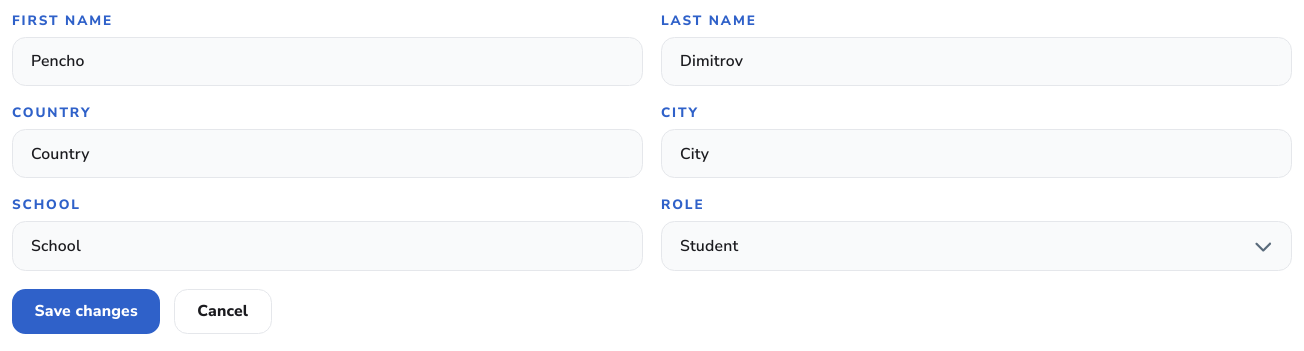
UserEditForm › shows saving state while submitting
The width and height of the screenshot is (1304, 351).
Click the button "Save changes": click(86, 311) [12,289,160,334]
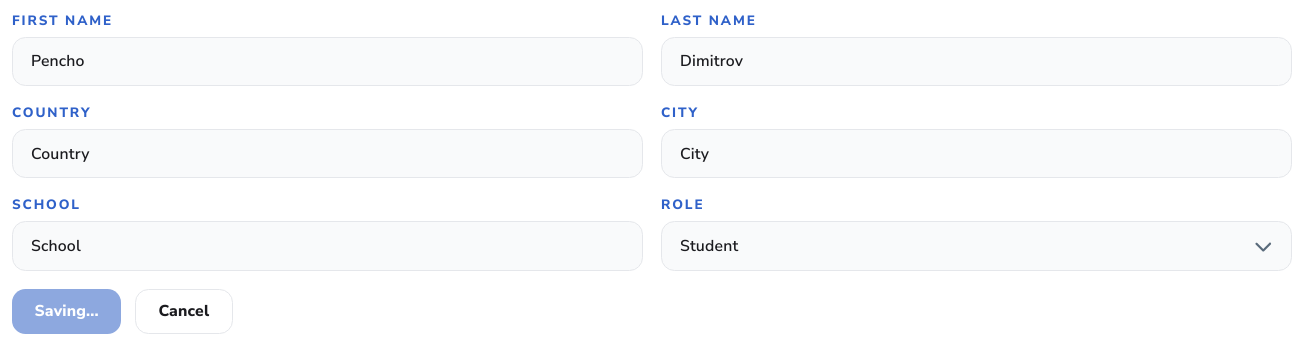
Now the button "Saving..." is disabled, box [12,289,121,334]
